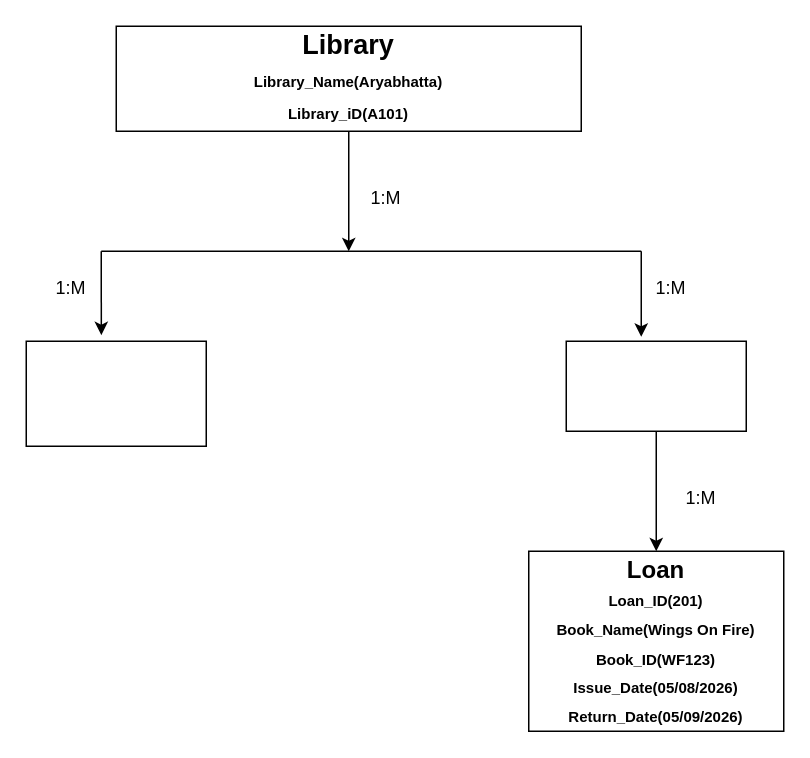
Some shapes in this 810 by 758 pixel diagram are drawn without their labels. The centre of each missing label's shape, as x and y in pixels:
"Staff Staff_Name(Deepak) Staff_ID(592)" belongs at point (115, 393).
"Students Student_Name(Arpit) Student_ID(111)" belongs at point (655, 385).
